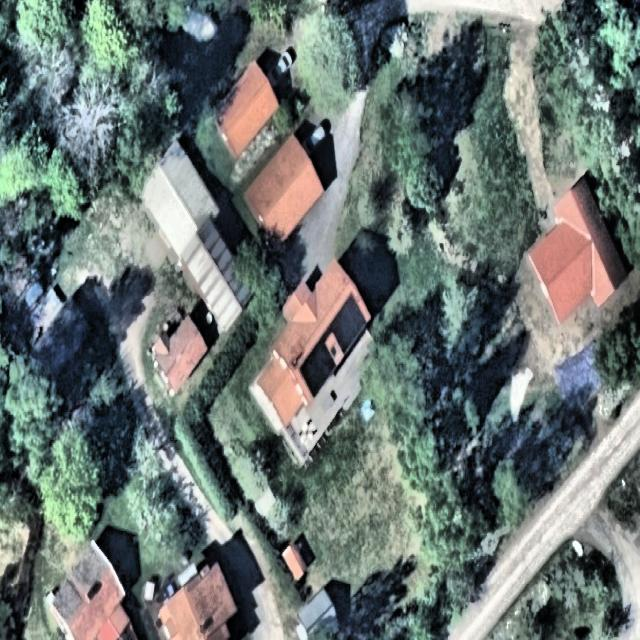roof_pv: (329, 292, 365, 356), (300, 342, 336, 396), (315, 324, 335, 346)
